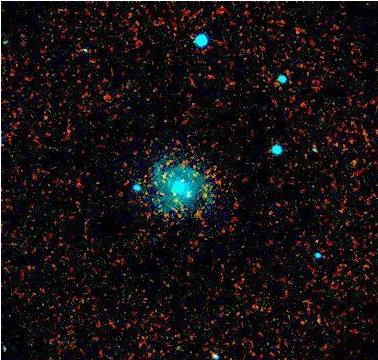star: (166, 178, 196, 208)
